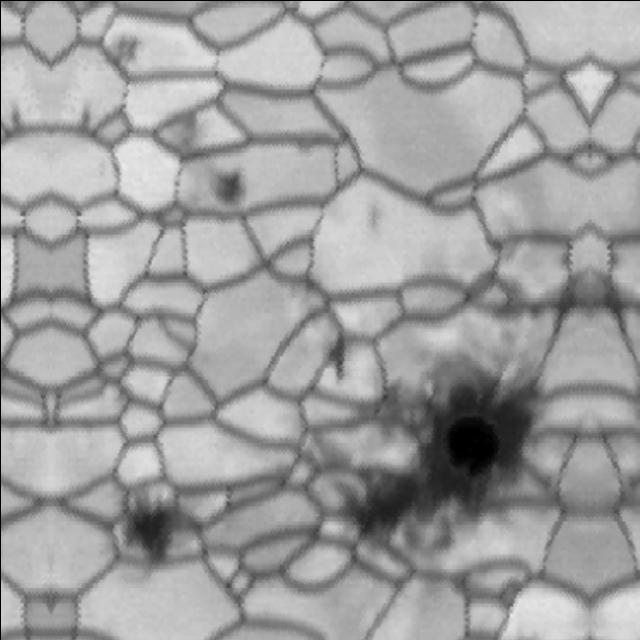good_void: (341, 360, 558, 554), (107, 478, 196, 582), (199, 158, 269, 221), (316, 321, 359, 385), (339, 192, 394, 240), (102, 30, 153, 76), (60, 91, 104, 139), (0, 91, 42, 139), (174, 111, 213, 150)
